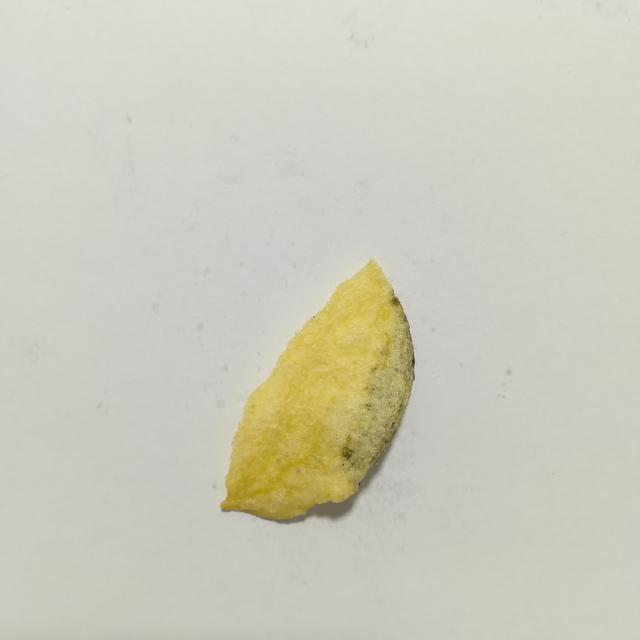chip: (221, 260, 414, 520)
semi-damaged: (342, 290, 414, 480)
